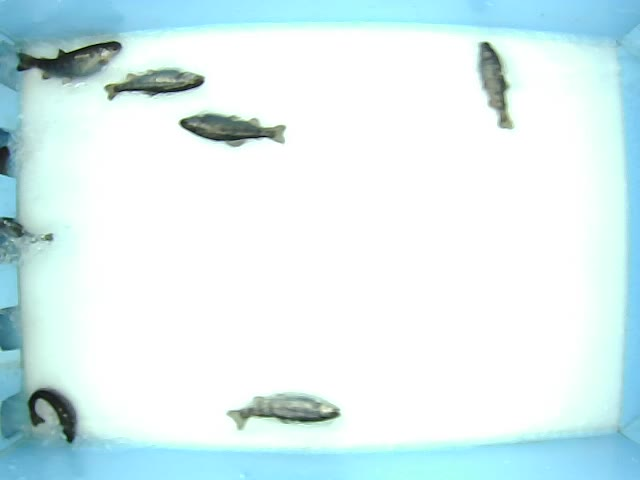fish: (168, 103, 308, 149), (226, 392, 369, 436), (16, 33, 132, 85), (463, 42, 523, 130), (108, 61, 210, 106), (27, 387, 90, 444)
